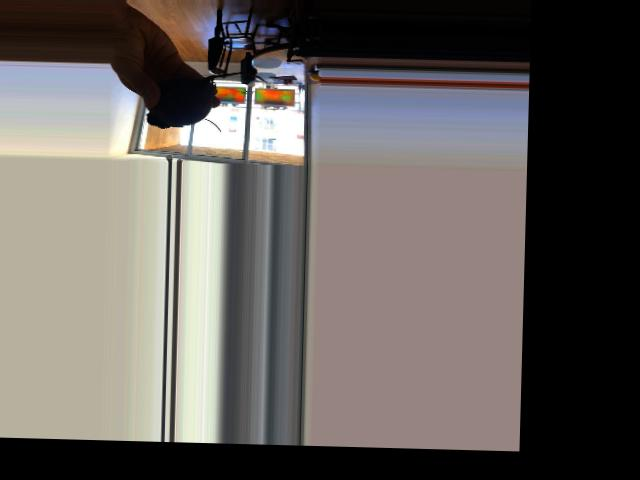beet: (147, 69, 267, 131)
